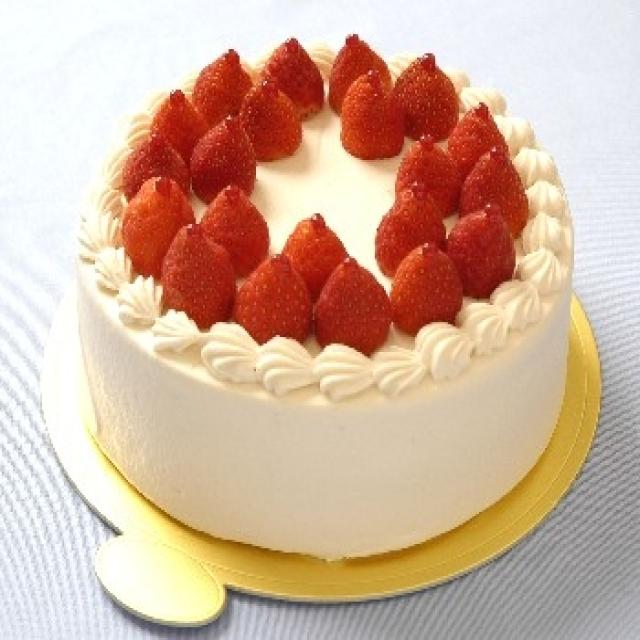蛋糕甜品: (60, 26, 587, 593)
